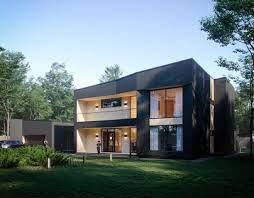private_hause: (71, 69, 207, 154)
